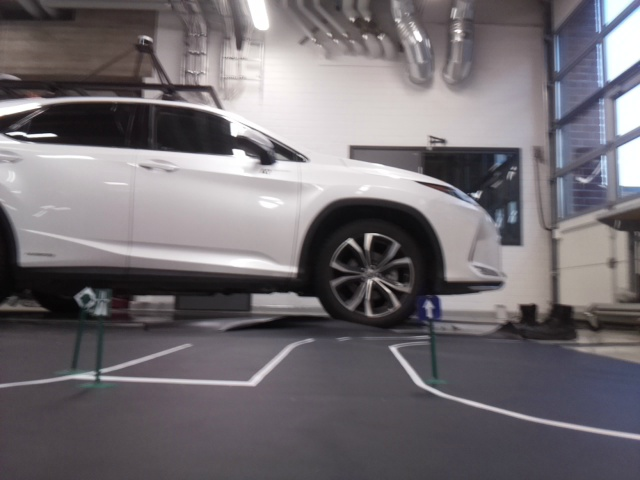OneWay: (418, 298, 443, 320)
